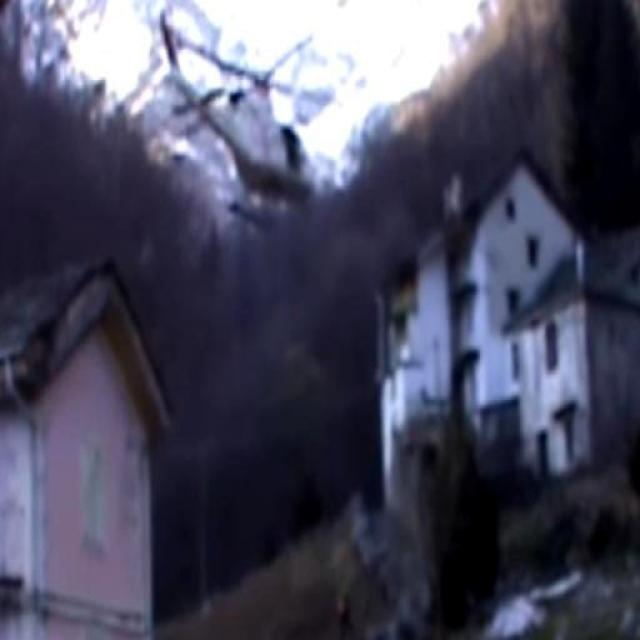drone: (155, 2, 325, 229)
